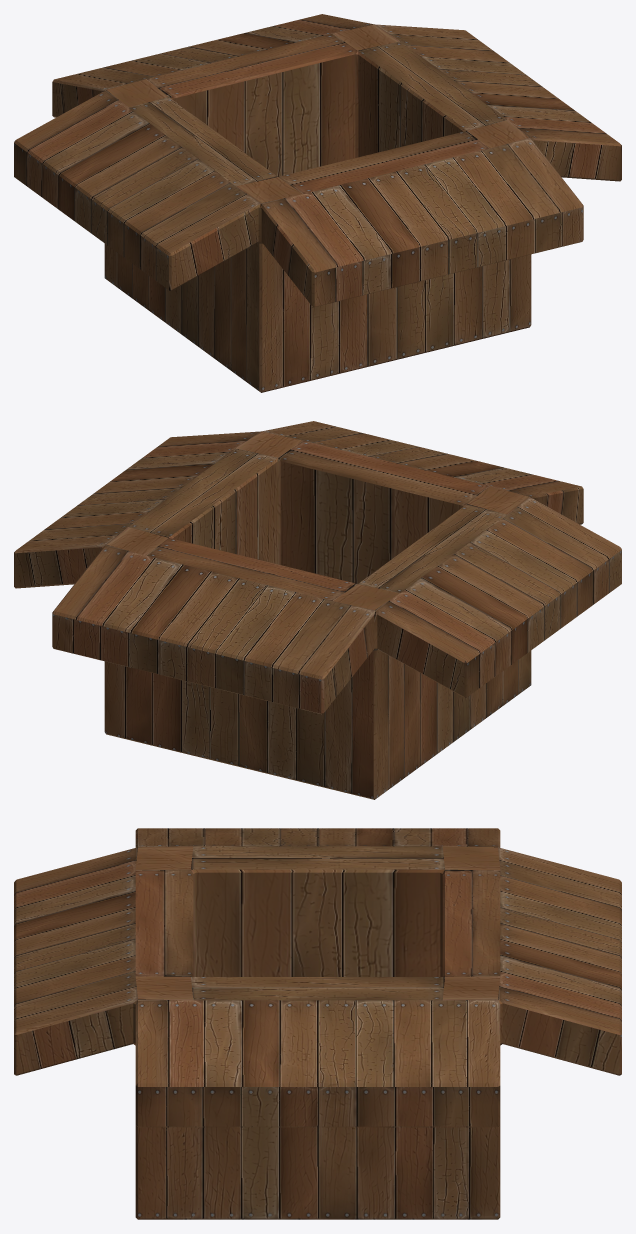
Rendered from PressureplateBox 2.fbx.
3 renders of one model, top to bottom at view 1: azimuth 30°, elevation 25°; view 2: azimuth 150°, elevation 25°; view 3: azimuth 270°, elevation 25°, orthographic. The views are drawn at different scales.
Visible parts, largest first — view 1: PressurePlateFoundation; view 2: PressurePlateFoundation; view 3: PressurePlateFoundation.
Boxes of the visible parts, x1,y1,x2,y2 form: PressurePlateFoundation: [14, 14, 621, 392]; PressurePlateFoundation: [14, 421, 621, 799]; PressurePlateFoundation: [14, 828, 621, 1219].
Size of the model in its own units: 250 by 100 by 250.
